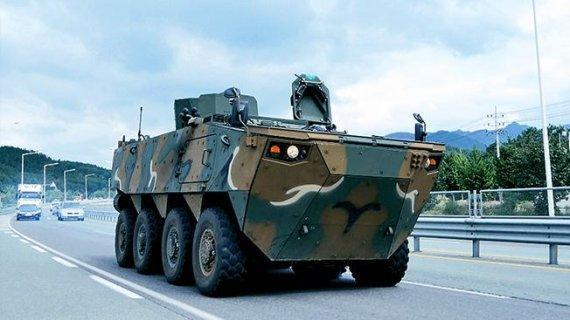MIL_IFV: (109, 71, 446, 297)
